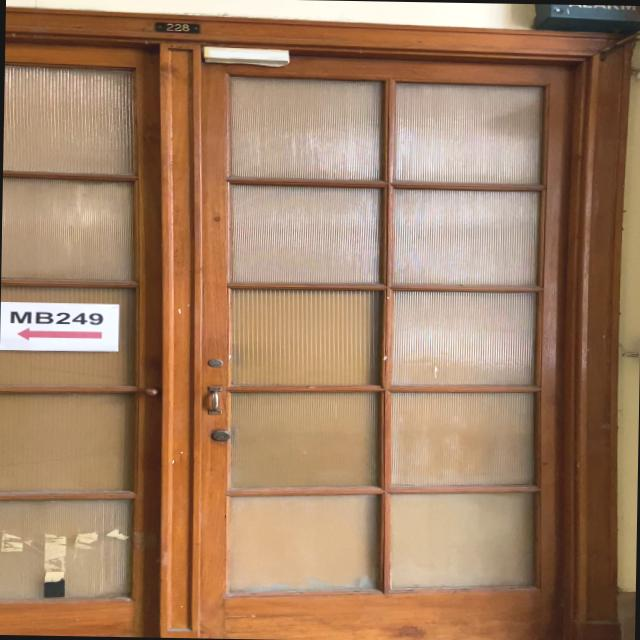room228: (151, 20, 201, 34)
